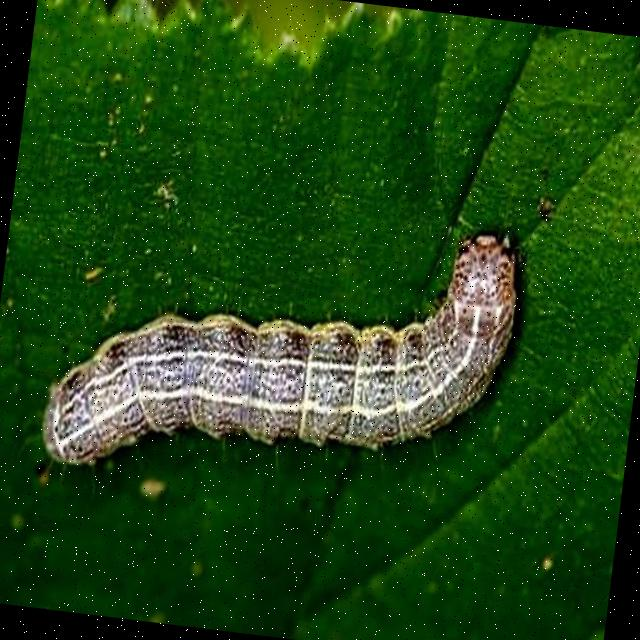worm: (36, 179, 527, 521)
